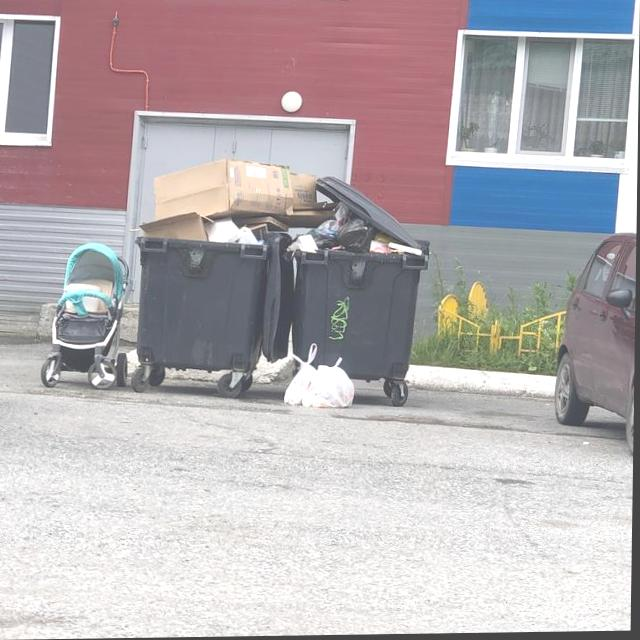Trash_Can_Full: (136, 159, 274, 373), (289, 203, 427, 383)
